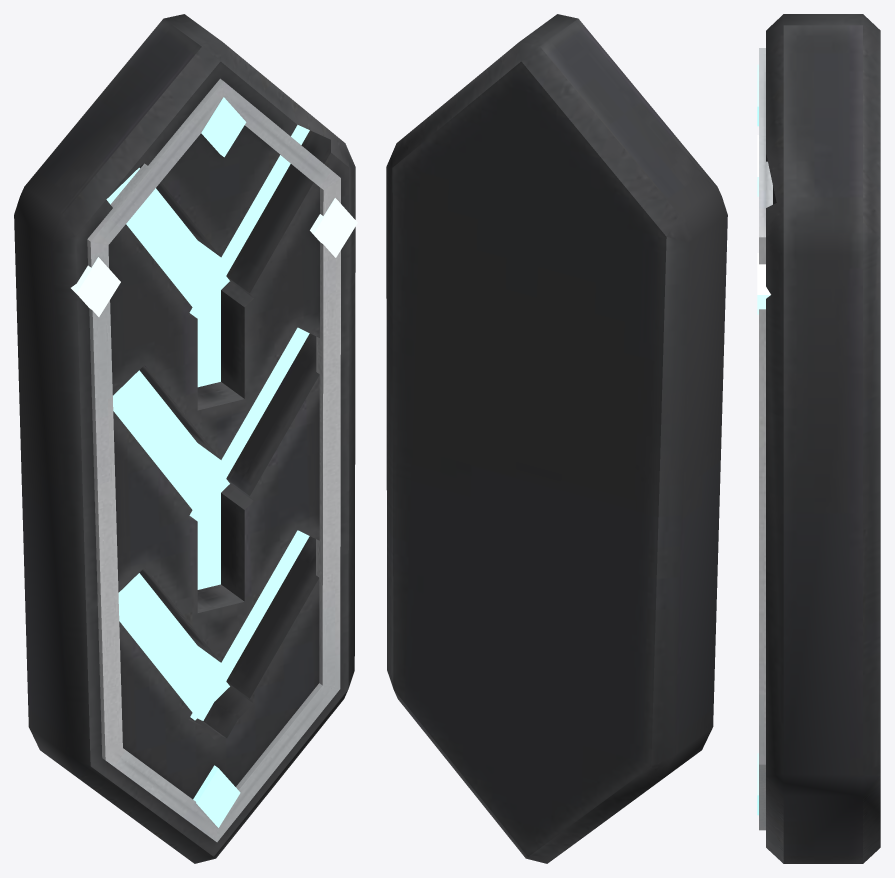
File: chain.glb
The picture shows the model from 3 angles, left to right: view 1: azimuth 30°, elevation 25°; view 2: azimuth 150°, elevation 25°; view 3: azimuth 270°, elevation 25°; orthographic projection. The views are drawn at different scales.
Parts seen in each view (by area): view 1: rune_iron, rune_inlay_t3, glow_rune, glow_rune_t3, glow_rune_t2; view 2: rune_iron; view 3: rune_iron, rune_inlay_t3, glow_rune_t3.
Boxes of the visible parts, x1,y1,x2,y2 form: rune_iron: (14, 14, 355, 863); rune_inlay_t3: (87, 78, 340, 842); glow_rune: (106, 125, 309, 720); glow_rune_t3: (71, 198, 357, 316); glow_rune_t2: (193, 97, 246, 827); rune_iron: (386, 14, 727, 863); rune_iron: (766, 14, 880, 863); rune_inlay_t3: (759, 48, 772, 830); glow_rune_t3: (757, 135, 770, 314).
Size of the model in its own units: 0.3793 by 0.975 by 0.1292.
5 materials, 2 textured.
